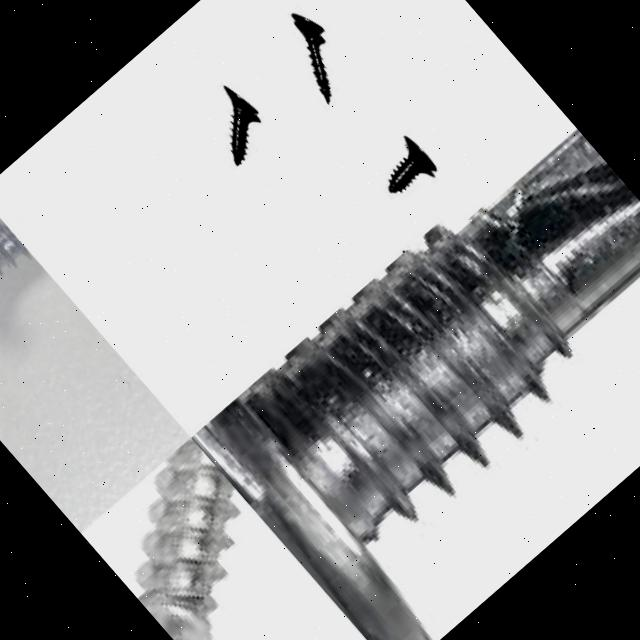Screw: (191, 126, 640, 640), (131, 437, 238, 640), (0, 192, 49, 334), (293, 13, 333, 105), (225, 86, 262, 166), (390, 137, 439, 194)
